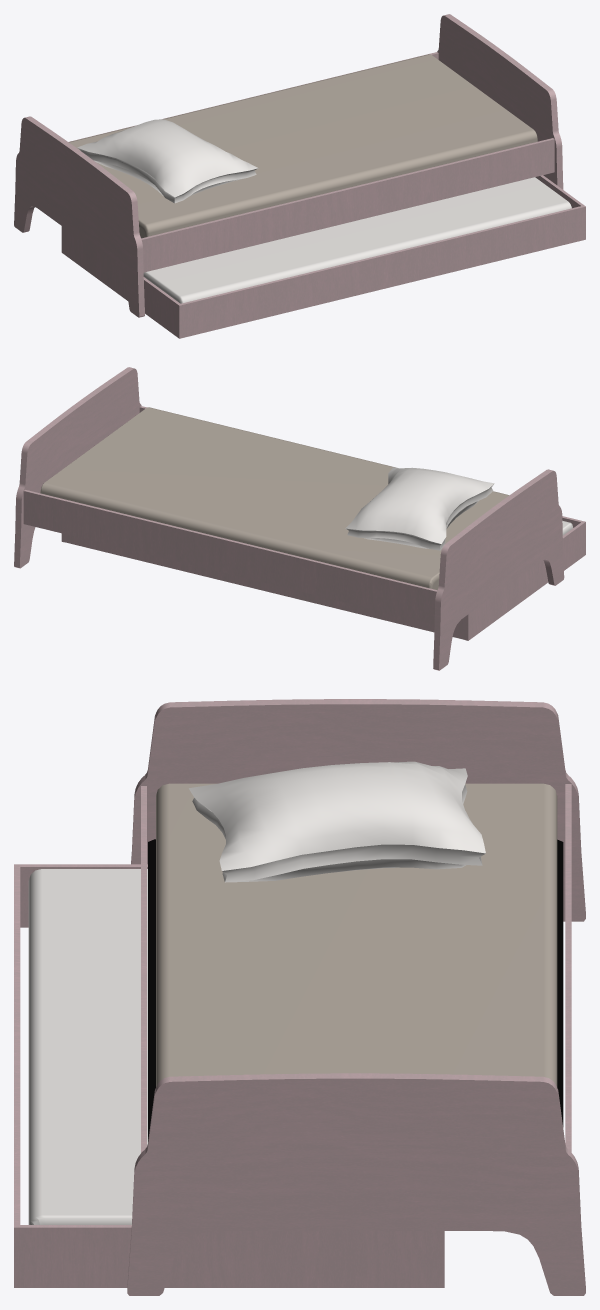
Rendered from bed-vintage.gltf.
3 views of the same model, one above another, from view 1: azimuth 30°, elevation 25°; view 2: azimuth 150°, elevation 25°; view 3: azimuth 270°, elevation 25° (orthographic). The views are drawn at different scales.
Visible parts, largest first — view 1: bed-mattress, bed-structure, divan, divan-mattress, pillow; view 2: bed-mattress, bed-structure, pillow, divan; view 3: bed-structure, bed-mattress, divan-mattress, pillow, divan, bed-platform.
Boxes of the visible parts, bbox=[...] form: bed-mattress: bbox=[69, 54, 537, 238]; bed-structure: bbox=[14, 14, 563, 317]; divan: bbox=[61, 175, 585, 338]; divan-mattress: bbox=[143, 177, 571, 303]; pillow: bbox=[77, 119, 258, 203]; bed-mattress: bbox=[40, 407, 509, 590]; bed-structure: bbox=[14, 367, 564, 670]; pillow: bbox=[345, 467, 494, 550]; divan: bbox=[61, 516, 585, 640]; bed-structure: bbox=[127, 699, 585, 1295]; bed-mattress: bbox=[156, 783, 557, 1086]; divan-mattress: bbox=[28, 869, 147, 1224]; pillow: bbox=[189, 761, 485, 882]; divan: bbox=[14, 864, 444, 1287]; bed-platform: bbox=[148, 839, 563, 1141].
Size of the model in its own units: 202 by 54.11 by 128.
7 materials, 2 textured.
